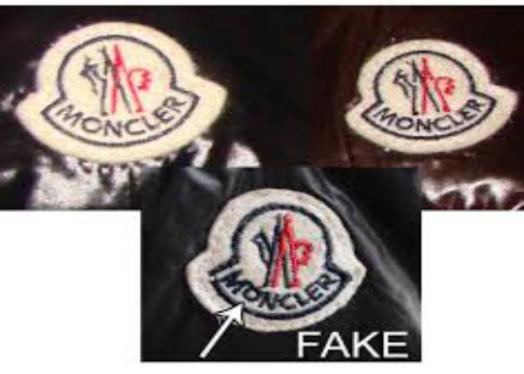MONCLER: (79, 41, 151, 110), (256, 211, 312, 290), (392, 55, 457, 115)
